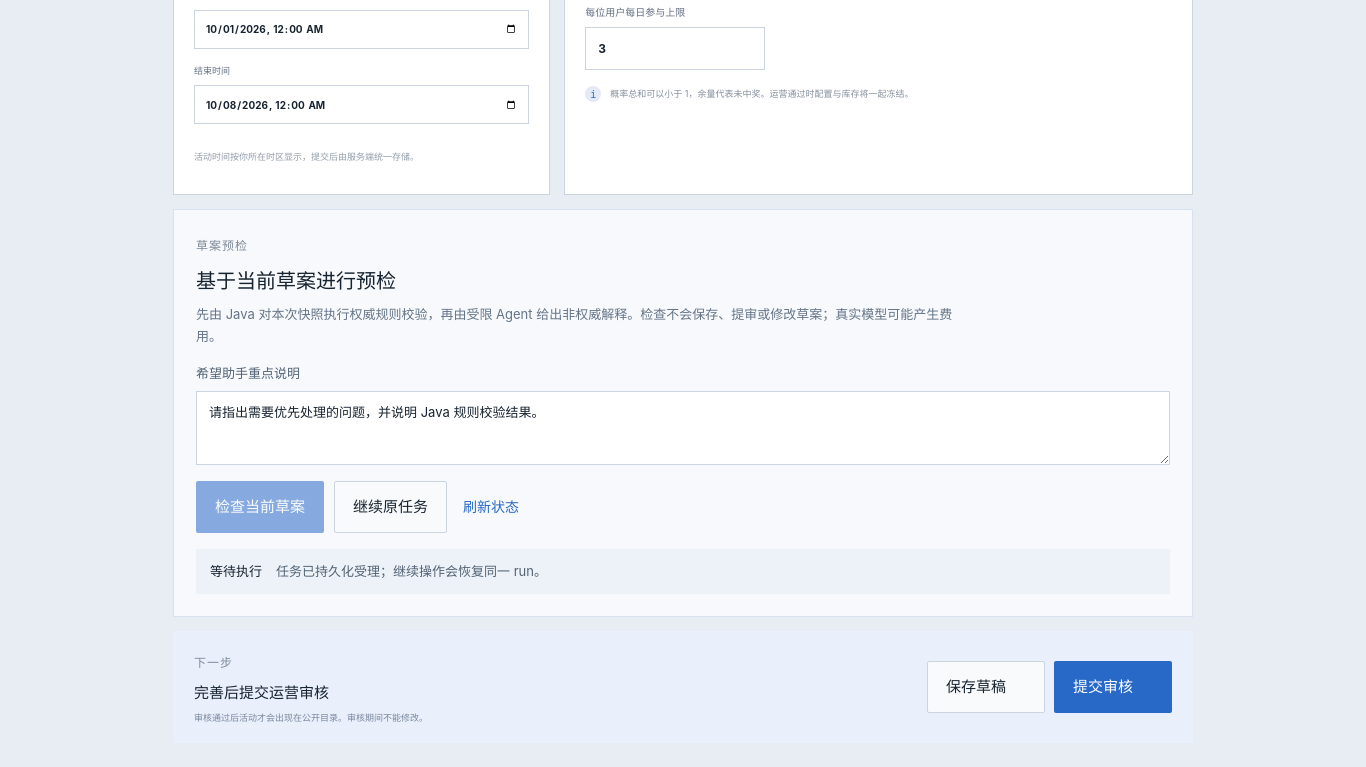
creator-owned campaign editing and copilot › restores an accepted run and only resumes it after the creator clicks
(page scrolled)
Step 1. Click the button with class "secondary" showing "继续原任务" → click(390, 507), box 334,481 -> 447,533
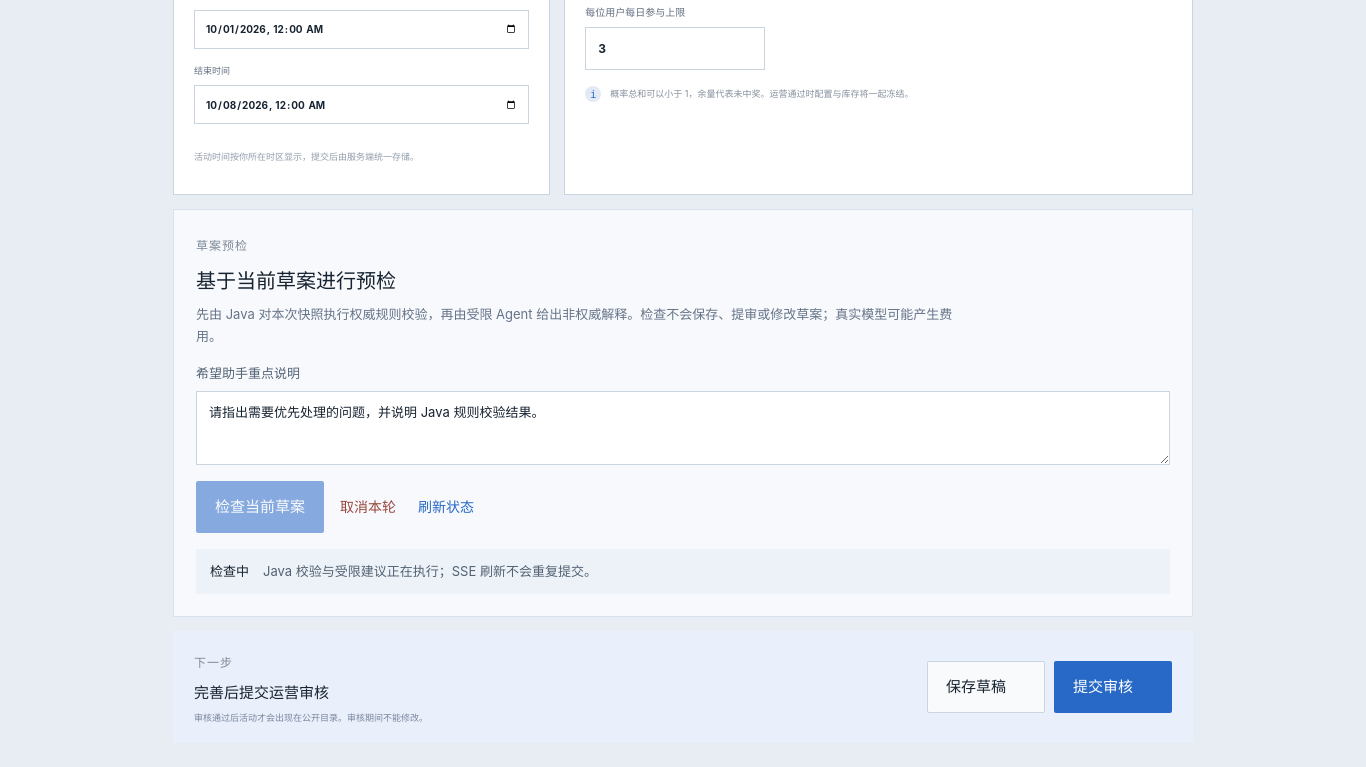
Now the text "检查中" is shown, box 210,561 -> 249,582
